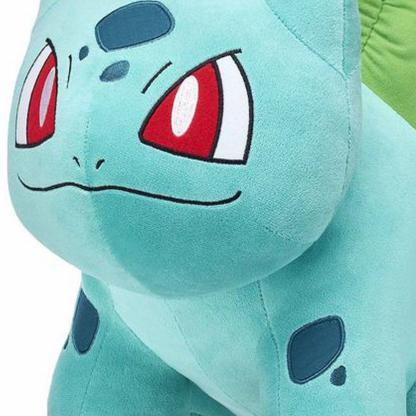Bulbasaur: (1, 10, 416, 416)
